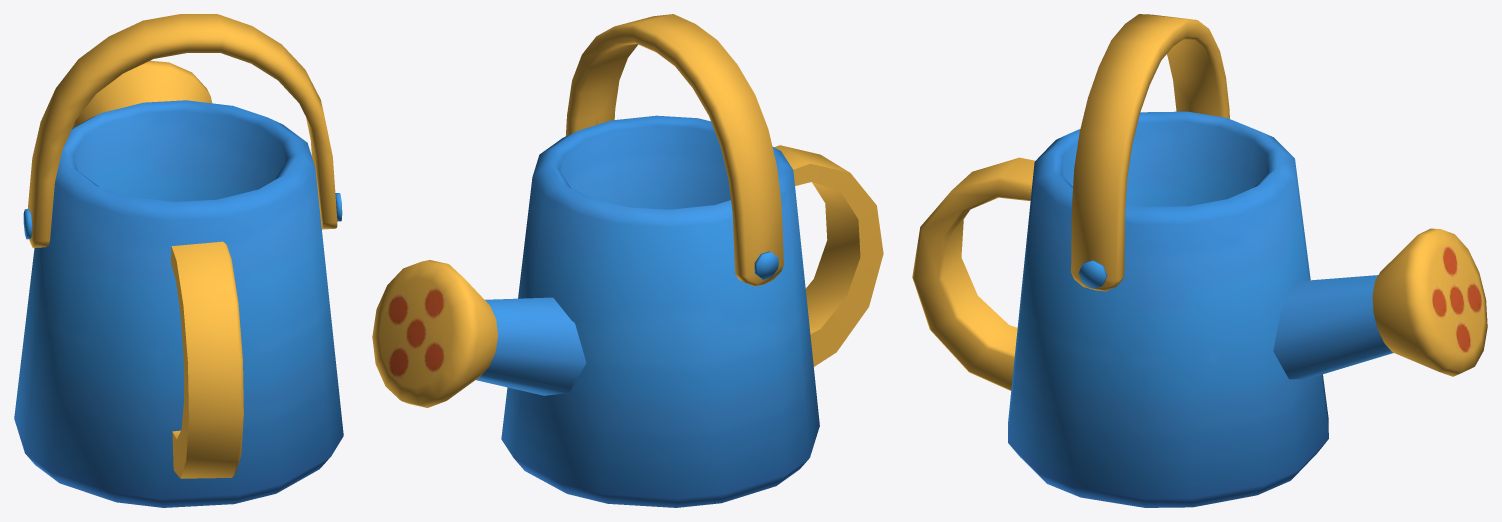
File: WaterShower.fbx
3 views of the same model, side by side, from view 1: azimuth 30°, elevation 25°; view 2: azimuth 150°, elevation 25°; view 3: azimuth 270°, elevation 25° (orthographic). The views are drawn at different scales.
Visible parts, largest first — view 1: WaterShower; view 2: WaterShower; view 3: WaterShower.
Part boxes in pixels (x1=…): WaterShower: x1=14, y1=14, x2=343, y2=507; WaterShower: x1=372, y1=14, x2=883, y2=507; WaterShower: x1=912, y1=14, x2=1487, y2=507.
Bounding box in the file's own units: 2.04 × 2.8 × 3.4.
